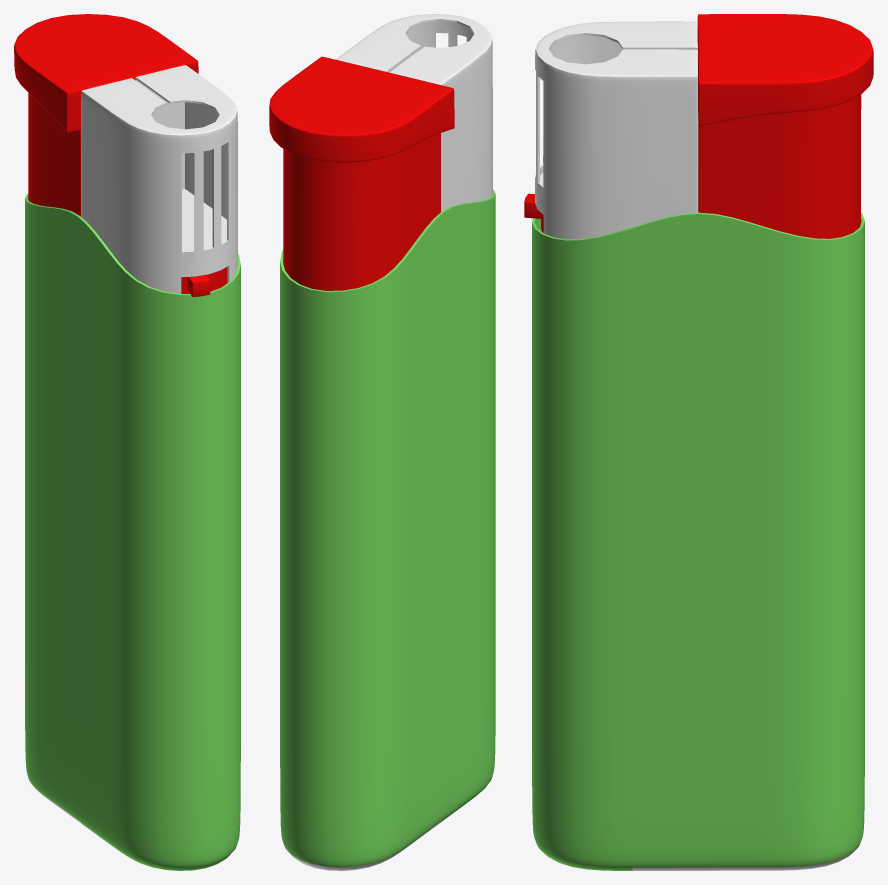
File: gas_cigarette_lighter.glb
3 renders of one model, left to right at view 1: azimuth 30°, elevation 25°; view 2: azimuth 150°, elevation 25°; view 3: azimuth 270°, elevation 25°, orthographic. The views are drawn at different scales.
Visible parts, largest first — view 1: Object_2, Object_4, Object_5; view 2: Object_2, Object_5, Object_4, Object_3; view 3: Object_2, Object_5, Object_4, Object_3.
Part boxes in pixels (x1=…): Object_2: x1=25, y1=193, x2=240, y2=870; Object_4: x1=81, y1=65, x2=237, y2=293; Object_5: x1=14, y1=14, x2=227, y2=296; Object_2: x1=280, y1=189, x2=495, y2=866; Object_5: x1=269, y1=56, x2=454, y2=290; Object_4: x1=336, y1=14, x2=492, y2=211; Object_3: x1=286, y1=821, x2=440, y2=870; Object_2: x1=532, y1=212, x2=864, y2=870; Object_5: x1=524, y1=14, x2=873, y2=238; Object_4: x1=535, y1=21, x2=698, y2=239; Object_3: x1=632, y1=846, x2=858, y2=870.
Bounding box in the file's own units: 0.5524 × 2.94 × 1.16.
